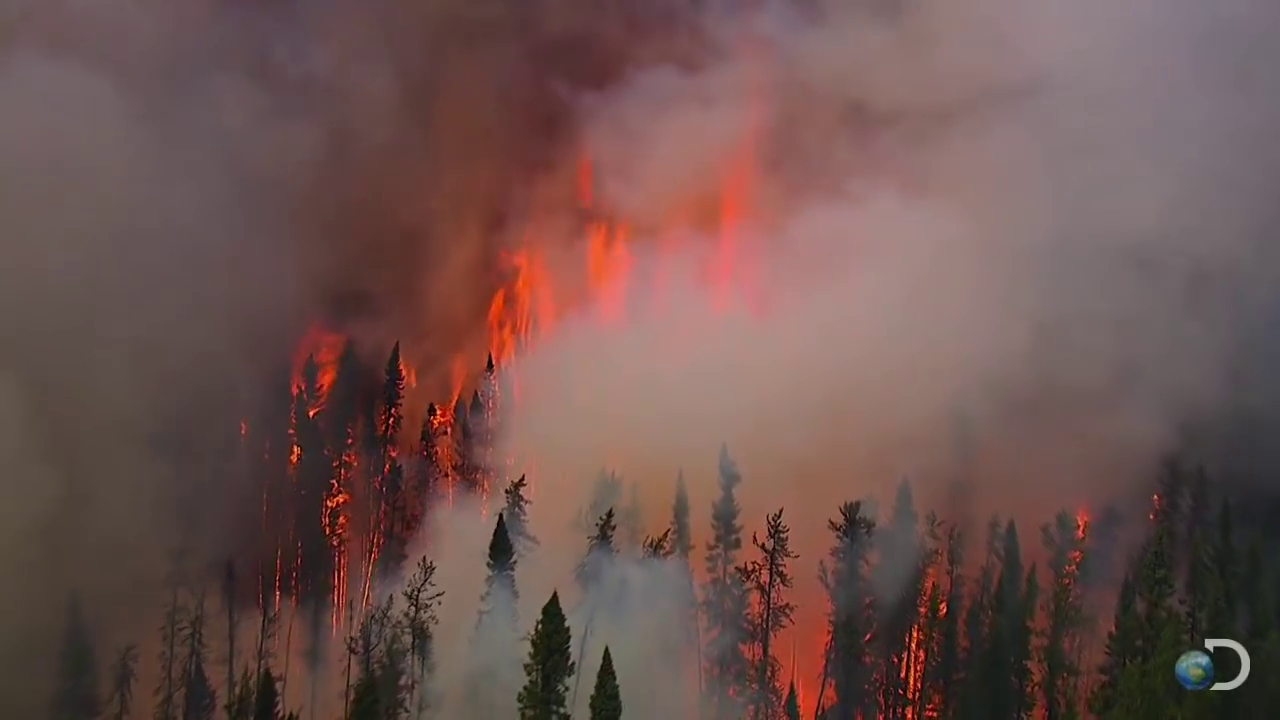forest_fire: (258, 327, 469, 632), (420, 248, 555, 440), (857, 566, 965, 719), (784, 627, 836, 719), (1067, 509, 1095, 589)
